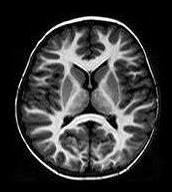Normal_Brain: (3, 2, 172, 192)
